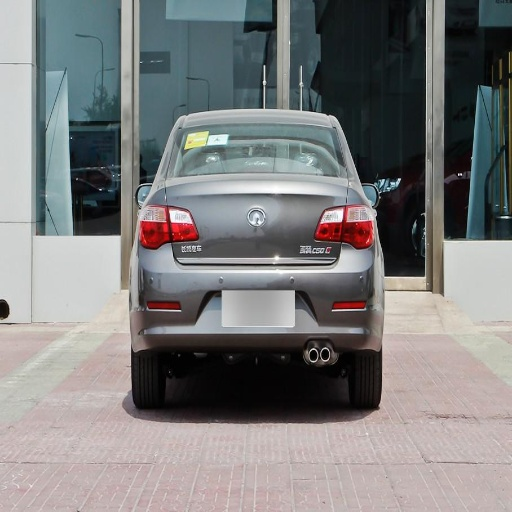back_bumper: (138, 244, 383, 348)
trunk: (139, 175, 344, 300)
